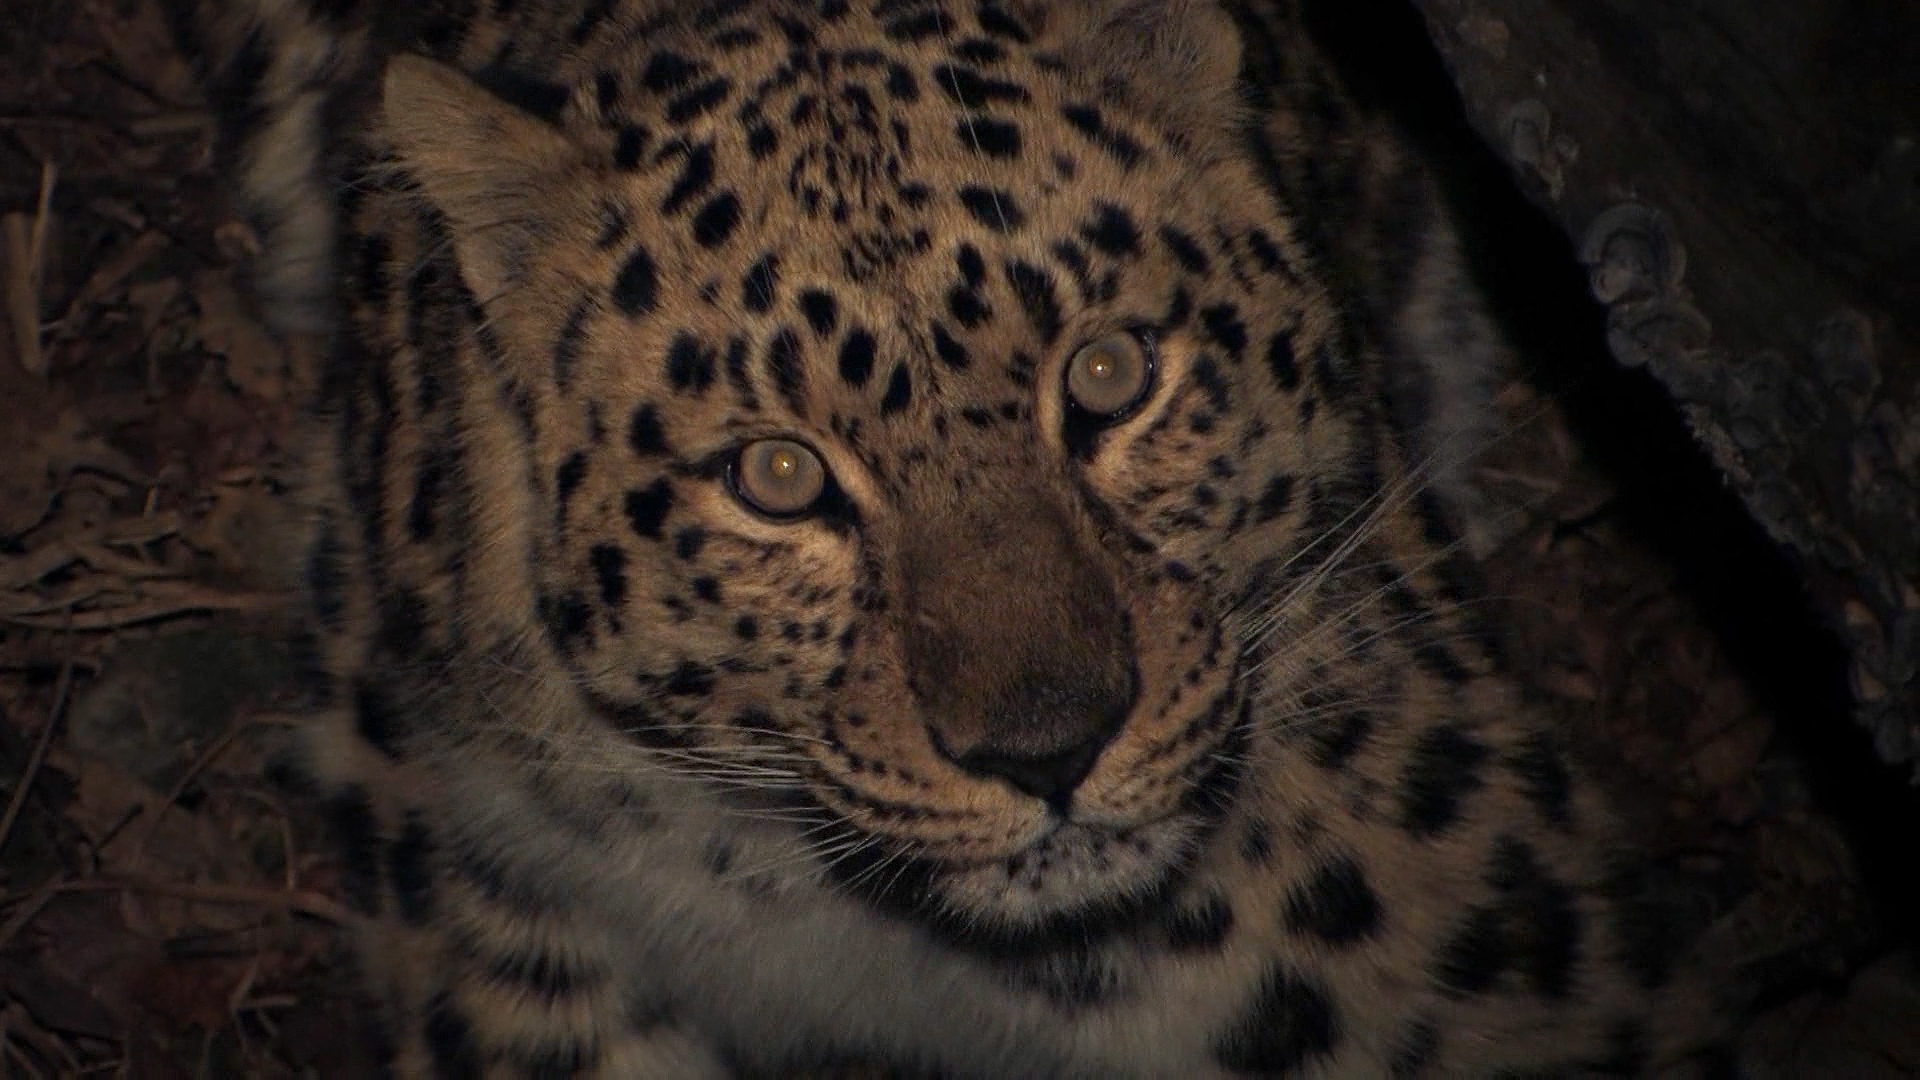amur_leopard: (319, 3, 1520, 1080)
